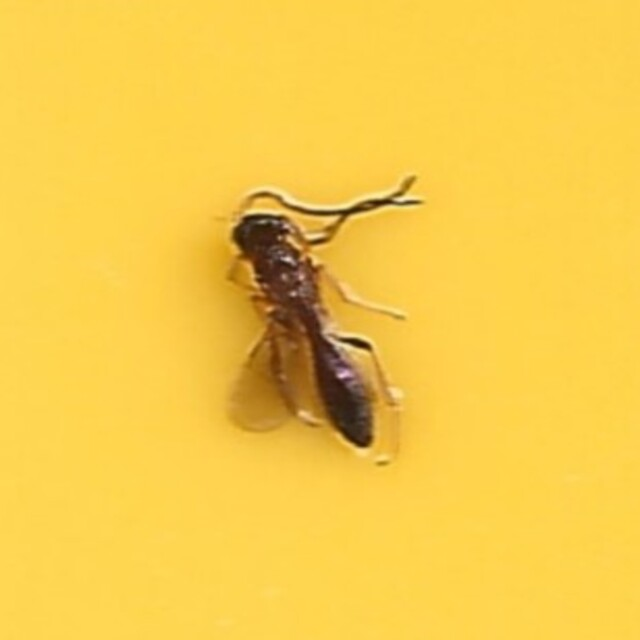Hymenoptera: (208, 174, 432, 466)
